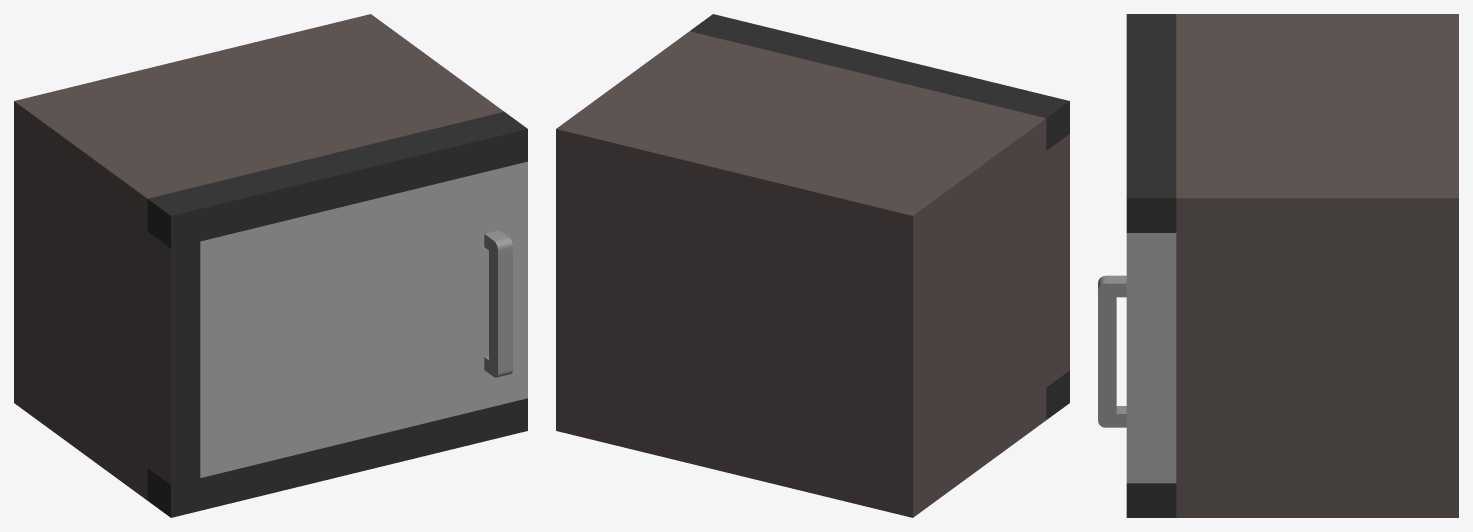
The model's file is fbx_warmcabinet_2.fbx.
The picture shows the model from 3 angles, left to right: view 1: azimuth 30°, elevation 25°; view 2: azimuth 150°, elevation 25°; view 3: azimuth 270°, elevation 25°; orthographic projection. The views are drawn at different scales.
Visible parts, largest first — view 1: fbx_warmcabinet_2; view 2: fbx_warmcabinet_2; view 3: fbx_warmcabinet_2.
Boxes of the visible parts, <box> form: fbx_warmcabinet_2: <box>14,14,527,517</box>; fbx_warmcabinet_2: <box>556,14,1069,517</box>; fbx_warmcabinet_2: <box>1098,14,1458,517</box>.
Bounding box in the file's own units: 1.24 × 1 × 1.02.
2 materials, 1 textured.
